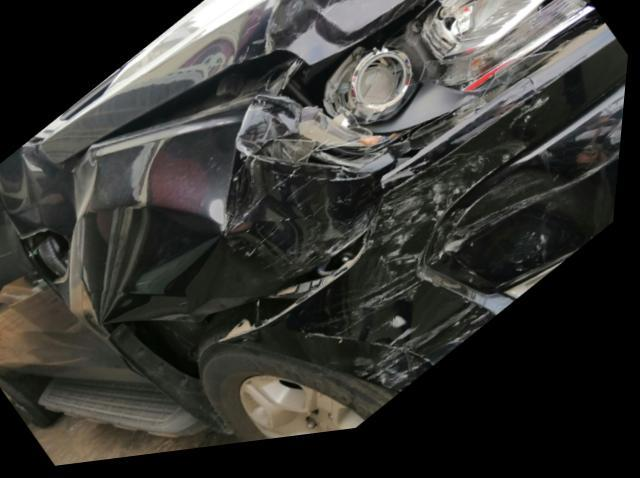dent: (231, 157, 384, 286), (262, 0, 432, 71), (0, 145, 105, 246)
lamp broken: (286, 0, 603, 148)
scratch: (345, 95, 555, 402)
